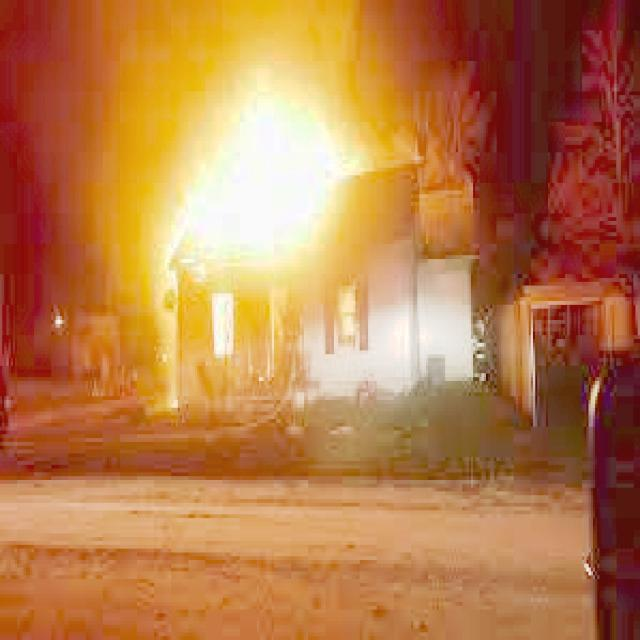api: (162, 74, 391, 295)
